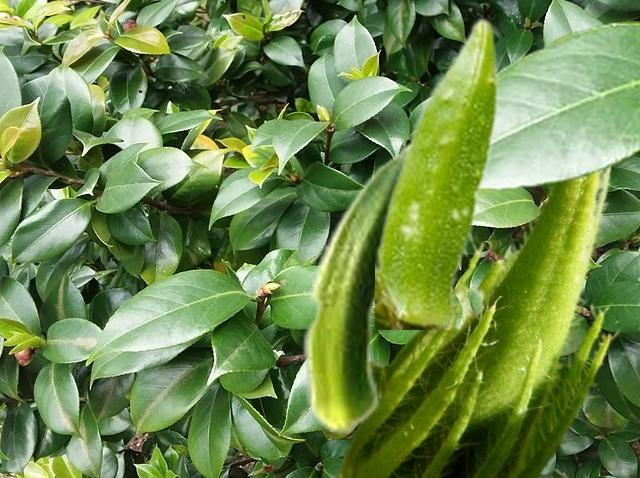okra: (333, 167, 628, 476), (375, 15, 499, 328), (301, 137, 408, 435)
